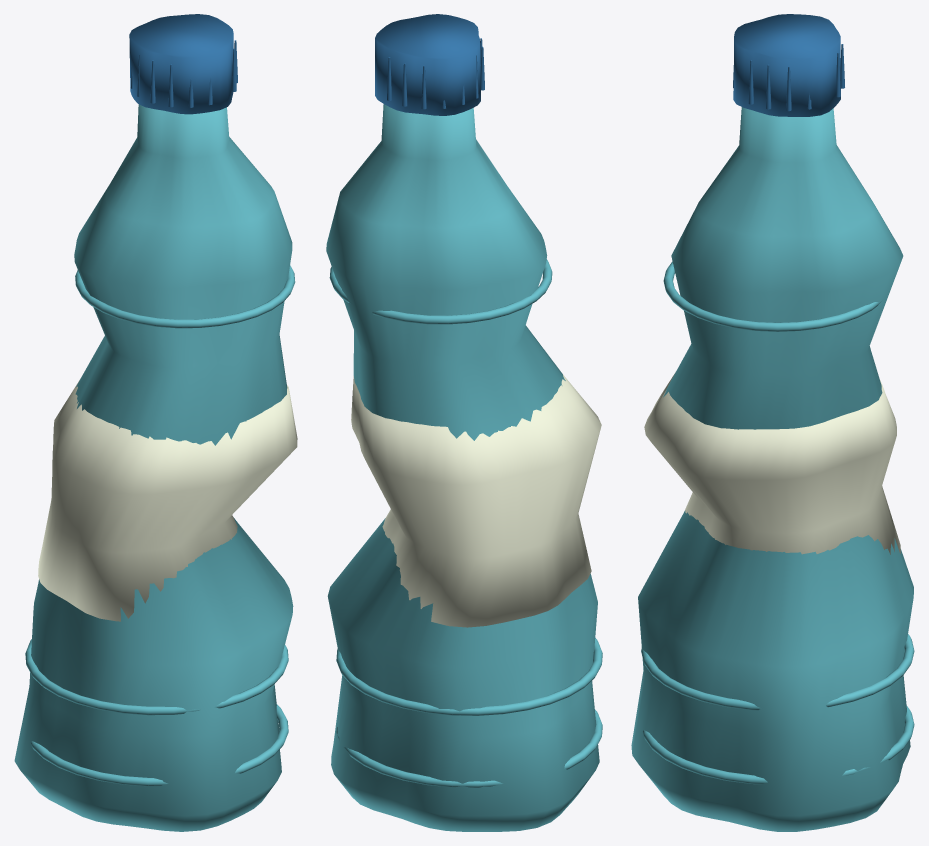
Rendered from Crushed_PET_Bottle.glb.
The picture shows the model from 3 angles, left to right: view 1: azimuth 30°, elevation 25°; view 2: azimuth 150°, elevation 25°; view 3: azimuth 270°, elevation 25°; orthographic projection. The views are drawn at different scales.
Visible parts, largest first — view 1: Crushed_PET_Bottle; view 2: Crushed_PET_Bottle; view 3: Crushed_PET_Bottle.
Boxes of the visible parts, x1,y1,x2,y2 form: Crushed_PET_Bottle: (14,14,297,831); Crushed_PET_Bottle: (326,14,602,831); Crushed_PET_Bottle: (631,14,914,831).
Size of the model in its own units: 0.1034 by 0.299 by 0.1008.
